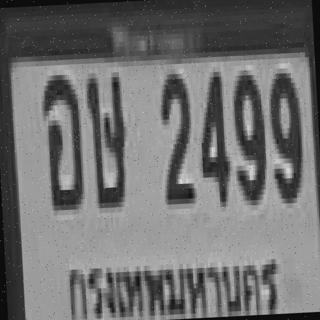A39: (84, 64, 128, 201)
A43: (39, 67, 83, 204)
N02: (157, 66, 193, 198)
N04: (196, 67, 230, 203)
N09: (230, 64, 266, 201), (267, 68, 303, 199)
P04: (64, 238, 283, 320)
